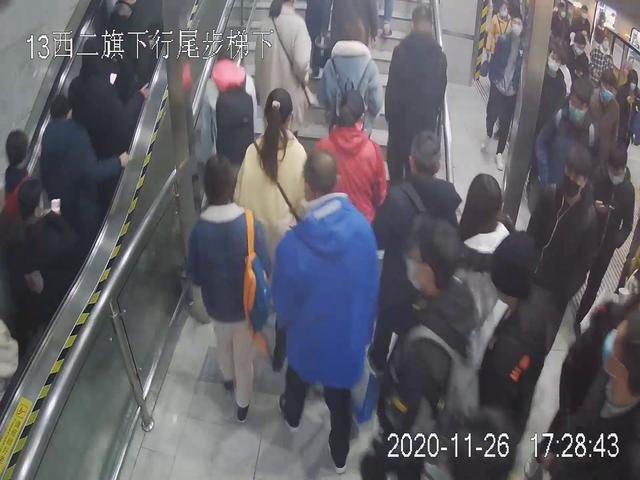person: (359, 216, 483, 475), (278, 152, 379, 461), (186, 145, 282, 422), (517, 145, 602, 376), (232, 88, 309, 283), (379, 1, 450, 174), (38, 98, 125, 239), (244, 3, 311, 137), (479, 11, 534, 169)
